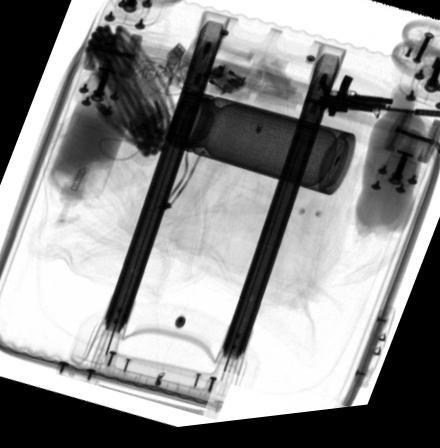Gun: (317, 81, 440, 129)
